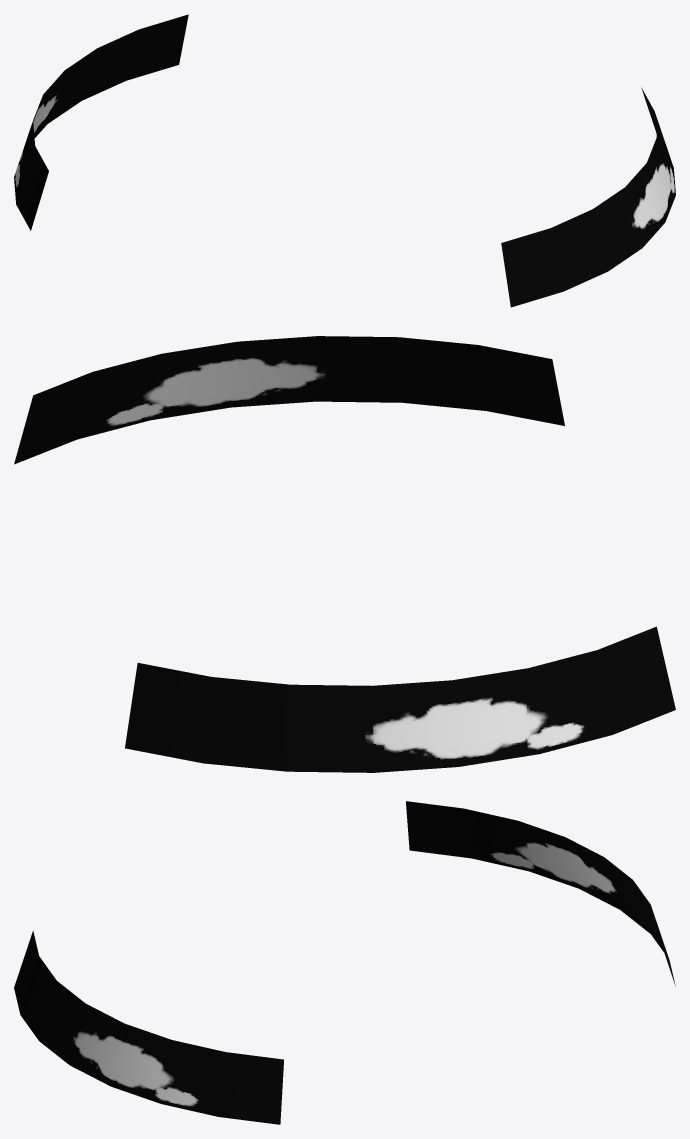
Rendered from Cloud2.obj.
3 renders of one model, top to bottom at view 1: azimuth 30°, elevation 25°; view 2: azimuth 150°, elevation 25°; view 3: azimuth 270°, elevation 25°, orthographic. The views are drawn at different scales.
Parts seen in each view (by area): view 1: Object001; view 2: Object001; view 3: Object001.
Boxes of the visible parts, x1,y1,x2,y2 form: Object001: [14, 14, 675, 307]; Object001: [14, 336, 675, 772]; Object001: [14, 801, 675, 1124].
Size of the model in its own units: 26.19 by 2.55 by 26.7.
